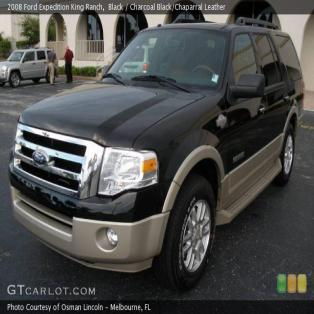Auto: (6, 20, 310, 287)
